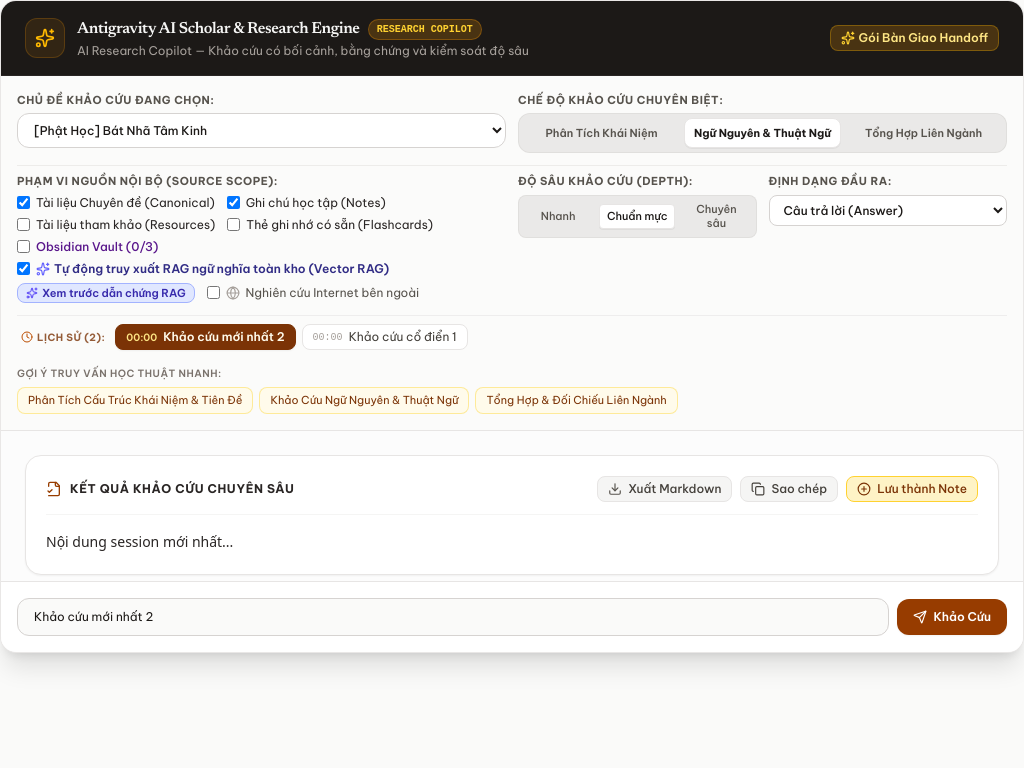
Phase P6.0: AI Research Studio UI Persistence & Export Integration › 3. Lightweight History View Navigation › 3.1. Hiển thị danh sách lịch sử của topic đang chọn và khôi phục khi click
Expected: the text "Nội dung session mới nhất..." is shown, [46,532,233,551]
Note: Click old session
Click the text "Khảo cứu cổ điển 1": (403, 337) [349,329,457,345]
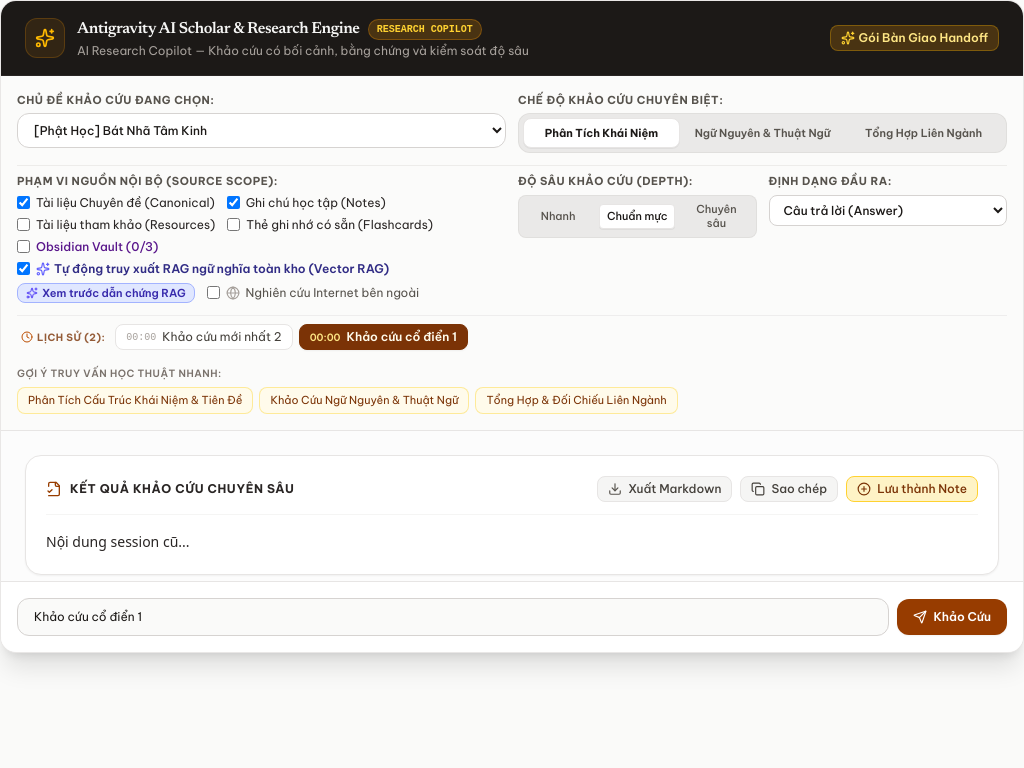
Expected: the text "Nội dung session cũ..." is shown, [46,532,190,551]
Expected: the text "Nội dung session mới nhất" is gone
